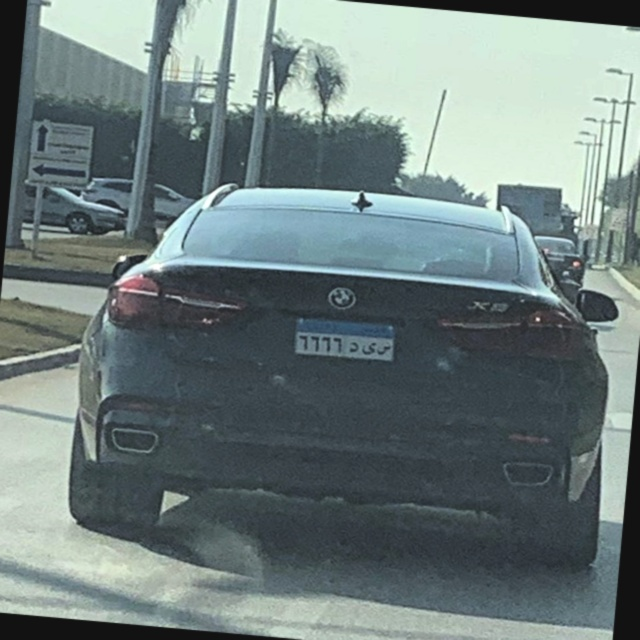License Plate: (290, 312, 397, 365)
